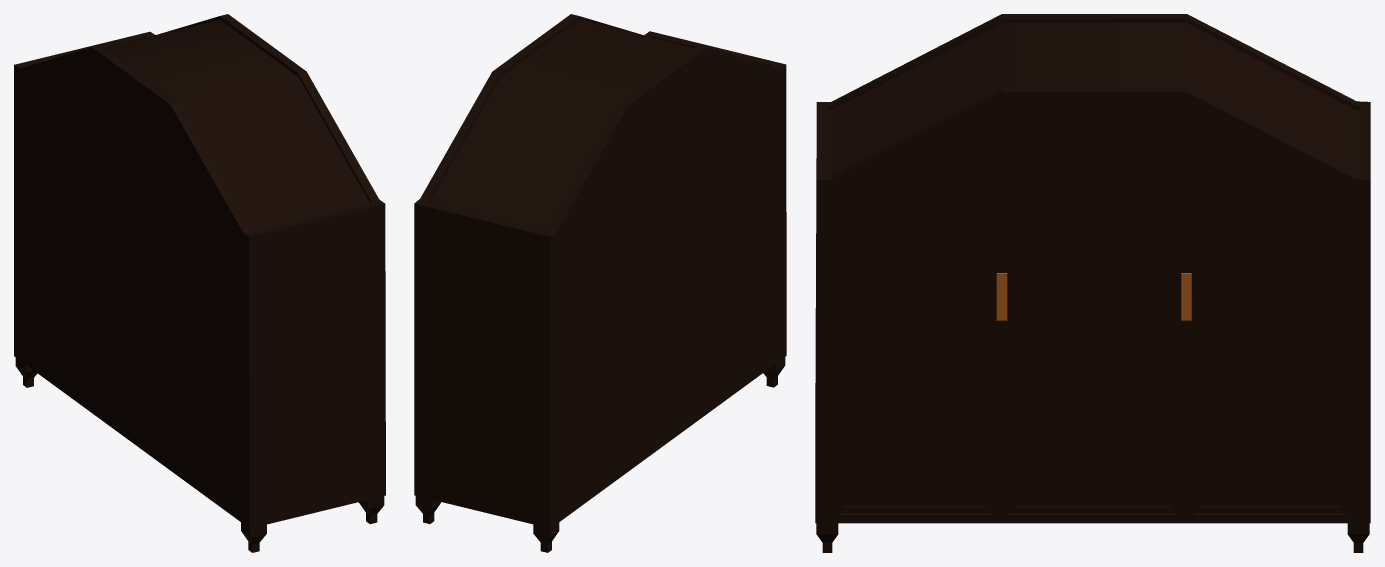
The model's file is Closet.FBX.
3 renders of one model, left to right at view 1: azimuth 30°, elevation 25°; view 2: azimuth 150°, elevation 25°; view 3: azimuth 270°, elevation 25°, orthographic. The views are drawn at different scales.
Parts seen in each view (by area): view 1: Box001; view 2: Box001; view 3: Box001.
Boxes of the visible parts, x1,y1,x2,y2 form: Box001: (14,14,385,552); Box001: (414,14,786,552); Box001: (815,14,1370,552).
Bounding box in the file's own units: 1.01 × 2.76 × 3.
